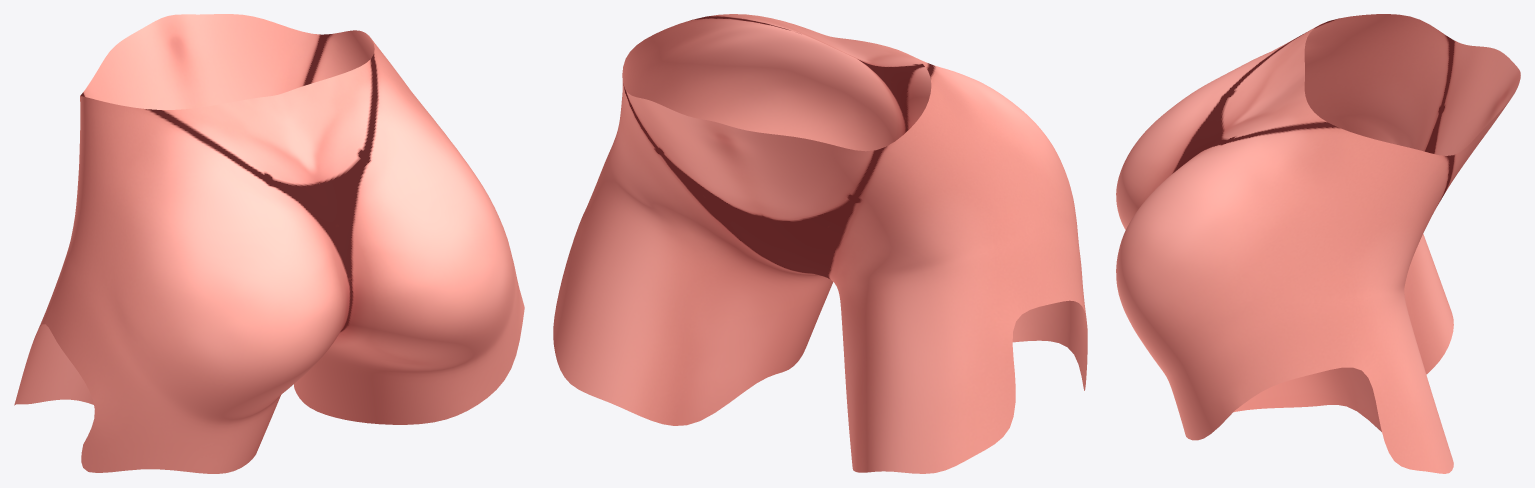
Rendered from butt.glb.
3 renders of one model, left to right at view 1: azimuth 30°, elevation 25°; view 2: azimuth 150°, elevation 25°; view 3: azimuth 270°, elevation 25°, orthographic. The views are drawn at different scales.
Parts seen in each view (by area): view 1: Butt_Only; view 2: Butt_Only; view 3: Butt_Only.
Boxes of the visible parts, x1,y1,x2,y2 form: Butt_Only: (14,14,524,473); Butt_Only: (553,14,1087,473); Butt_Only: (1116,14,1520,473).
Bounding box in the file's own units: 0.4249 × 0.34 × 0.3446.
Materials: 1 (1 with a texture image).
